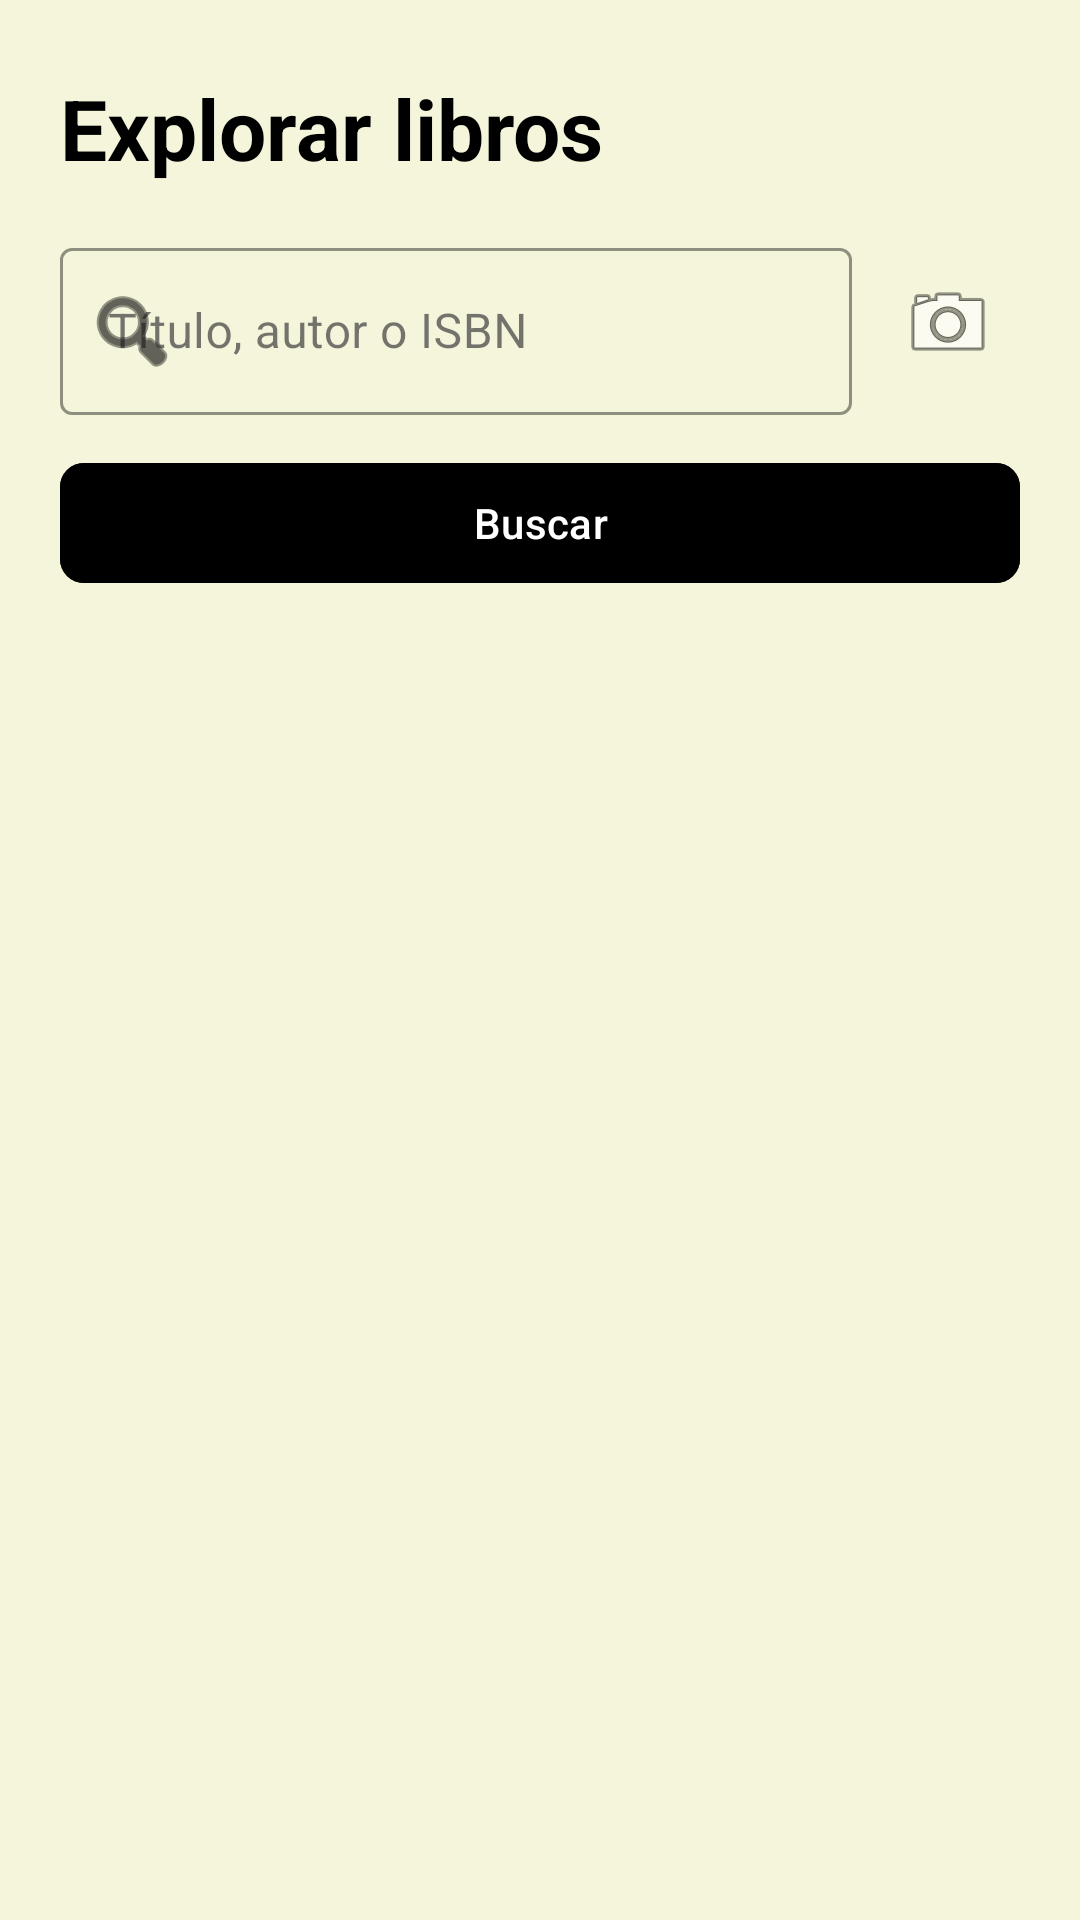

Named icons in this screenshot (1080 × 1920) and their bounding boxes, (x1, y1, x2, y2):
Escanear ISBN: (911, 292, 985, 351)
